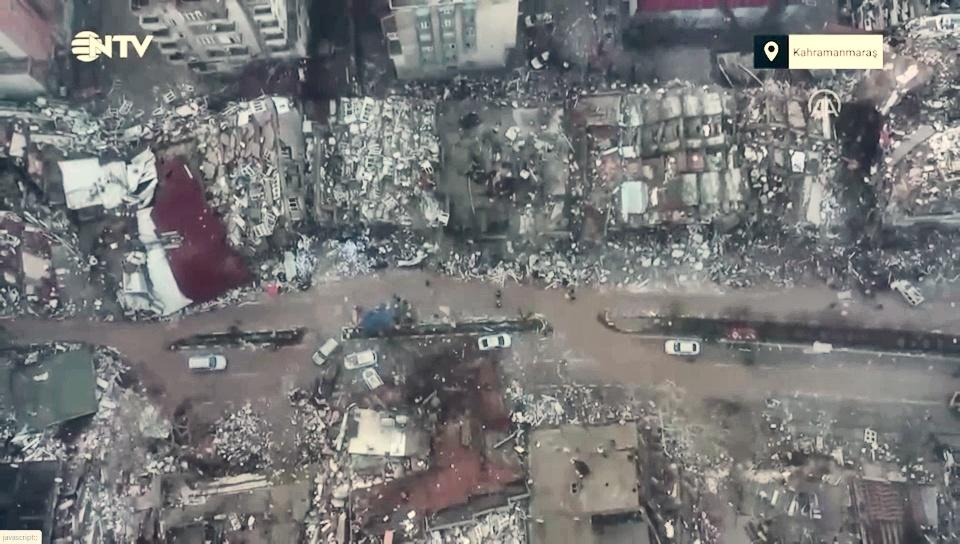kapali: (1, 251, 349, 345), (271, 332, 565, 424), (0, 349, 186, 428)
